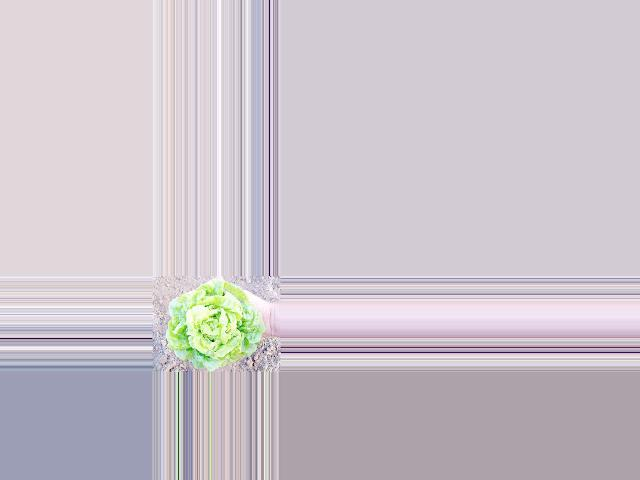lettuce: (164, 280, 258, 368)
